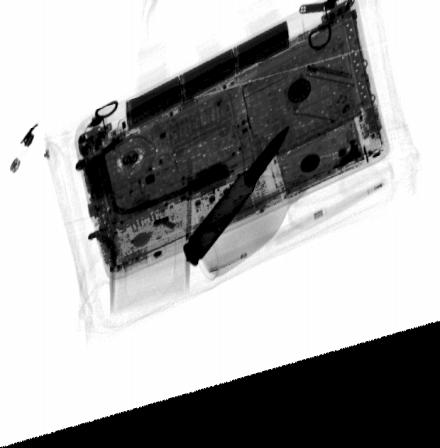Bullet: (182, 140, 291, 279)
